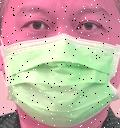with_mask: (1, 2, 120, 128)
